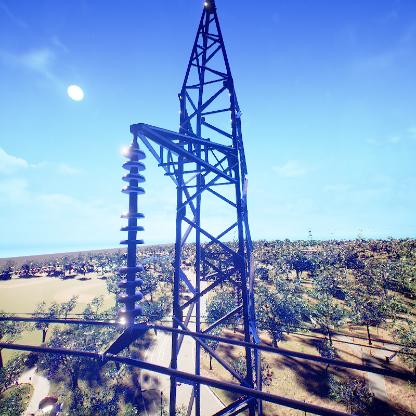insulator: (116, 145, 148, 322), (234, 271, 241, 320)
